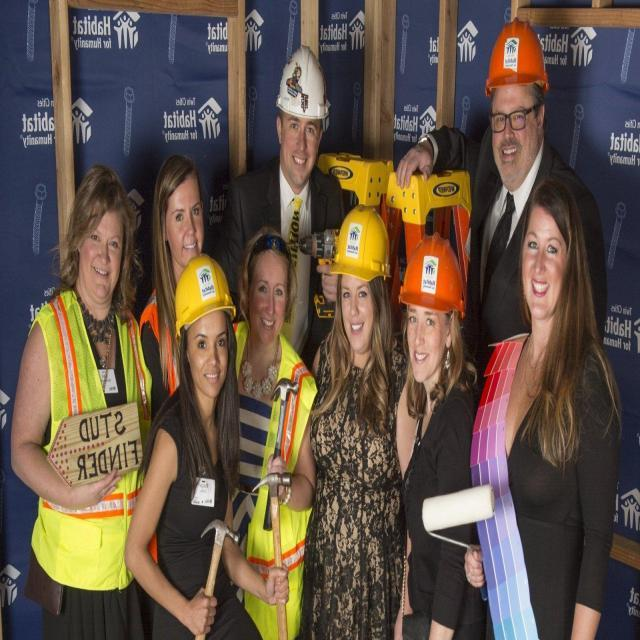reflective_jacket: (26, 295, 157, 588), (228, 328, 319, 636)
safety_helmet: (398, 231, 465, 314), (172, 248, 236, 334), (484, 16, 549, 96), (273, 38, 333, 123), (330, 198, 389, 284)
